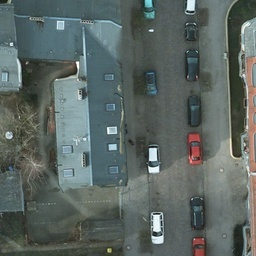car: (148, 210, 164, 244), (187, 133, 203, 164), (187, 93, 202, 124), (143, 67, 158, 97), (190, 197, 204, 229), (185, 48, 198, 82), (182, 20, 197, 45), (147, 142, 158, 174), (142, 0, 155, 21), (184, 0, 197, 16)
